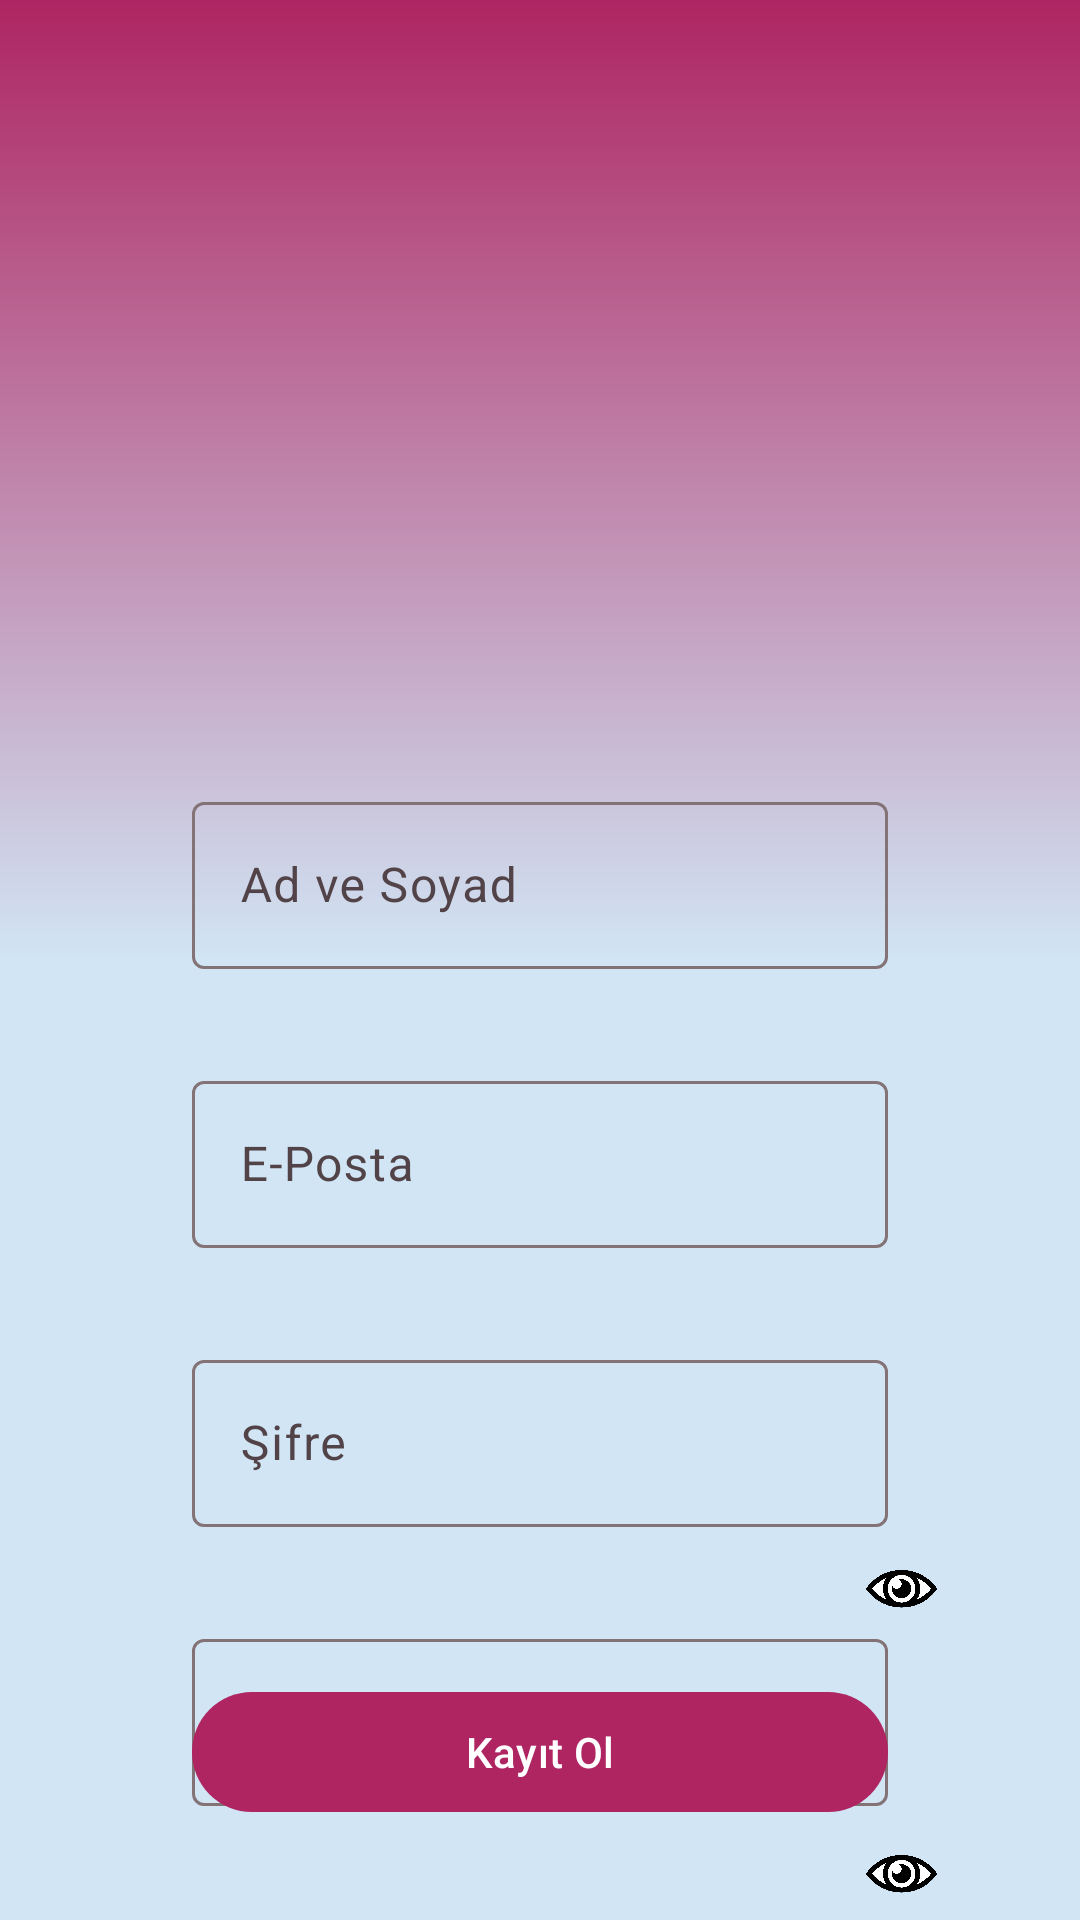

Screen size 1080px×1920px. Icon name, then its center in pixels as (x=x, y=y):
eye: (x=901, y=1589), (x=901, y=1874)
